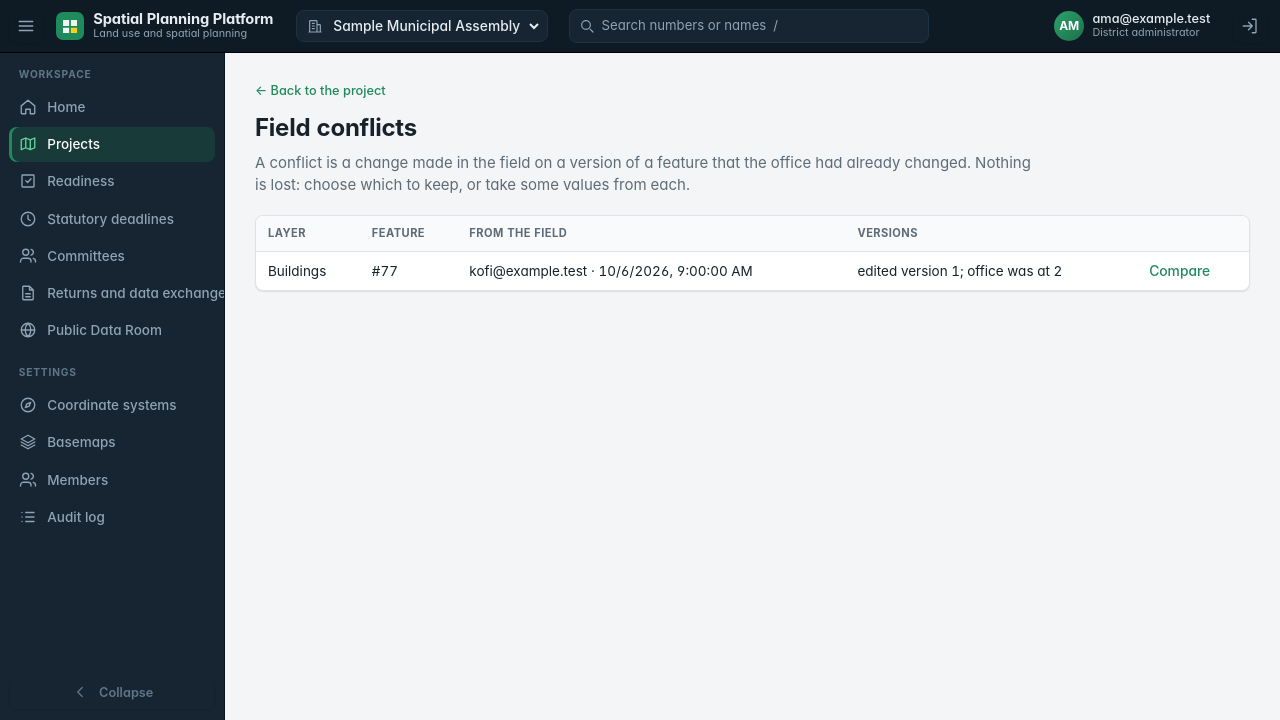
it: field conflicts › shows both versions side by side and marks what differs
The image size is (1280, 720).
Click the button "Compare" at (1180, 271), box [1146,263,1213,279]
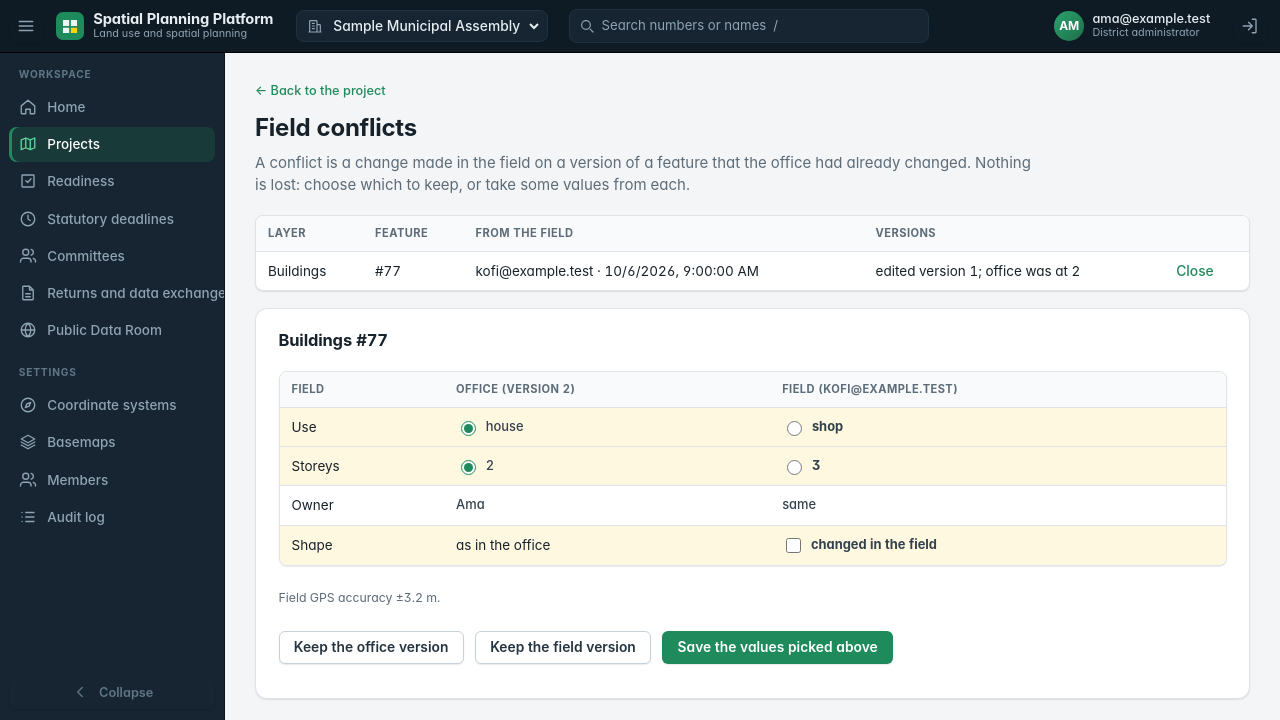
Expected: the row "Use house shop" is shown, [280,408,1226,447]
Expected: the row "Owner Ama same" is shown, [280,486,1226,526]
Expected: the element named "Compare versions" shows "Field GPS accuracy ±3.2 m.", [255,308,1250,699]
